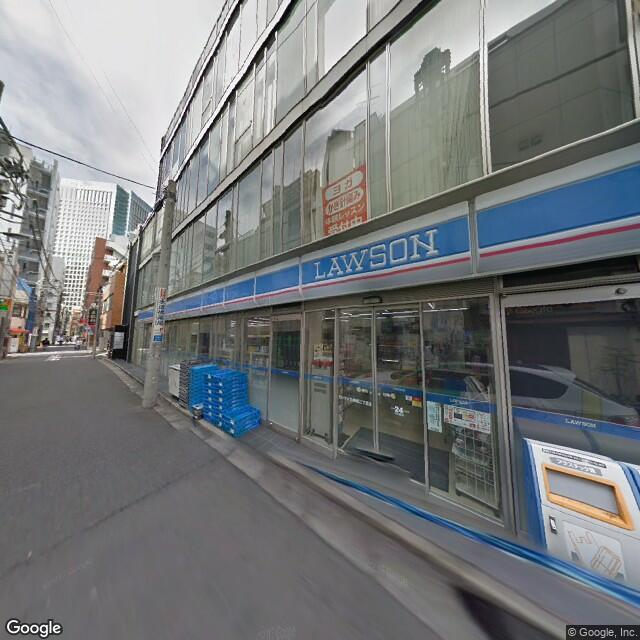lawson: (144, 138, 639, 326)
